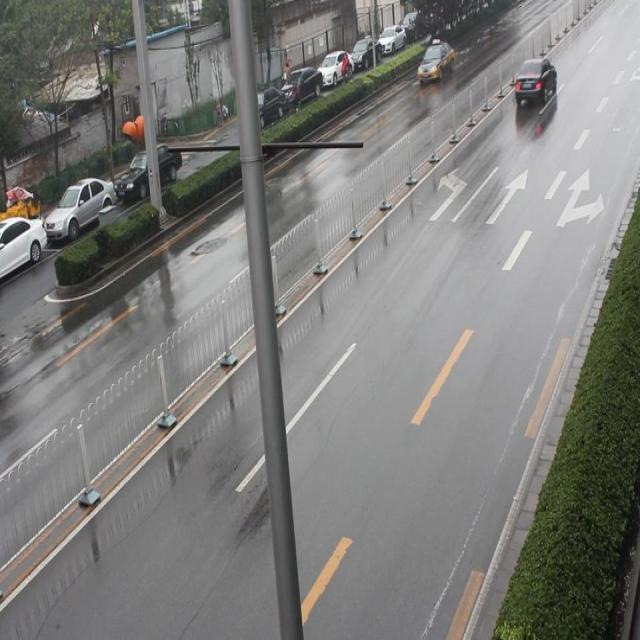car: (508, 51, 560, 113), (415, 33, 454, 94)
